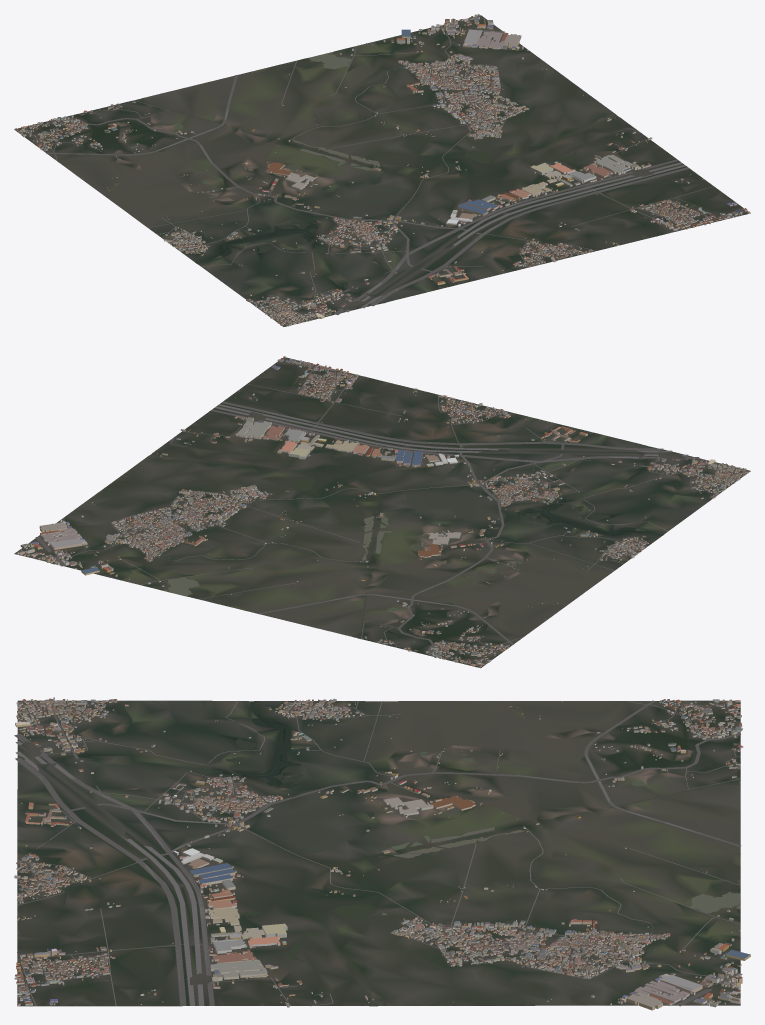
The picture shows the model from 3 angles, top to bottom: view 1: azimuth 30°, elevation 25°; view 2: azimuth 150°, elevation 25°; view 3: azimuth 270°, elevation 25°; orthographic projection. The views are drawn at different scales.
Visible parts, largest first — view 1: ground, buildings, roads, water; view 2: ground, buildings, roads, water; view 3: ground, buildings, roads, water.
Boxes of the visible parts, box(x1,y1,x2,y2) form: ground: box(14, 15, 750, 326); buildings: box(15, 14, 750, 326); roads: box(21, 23, 743, 326); water: box(112, 52, 617, 302); ground: box(14, 357, 750, 668); buildings: box(16, 356, 749, 667); roads: box(28, 359, 744, 664); water: box(131, 446, 662, 638); ground: box(17, 700, 740, 1006); buildings: box(14, 697, 750, 1010); roads: box(14, 700, 742, 1006); water: box(18, 701, 740, 1005).
Bounding box in the file's own units: 2854 × 34.53 × 2857.
